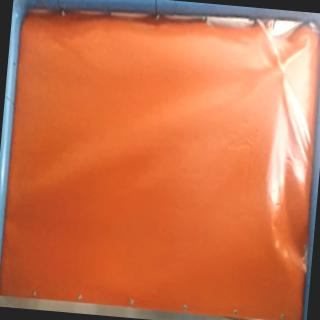Hit-hRxx: (274, 60, 292, 82)
